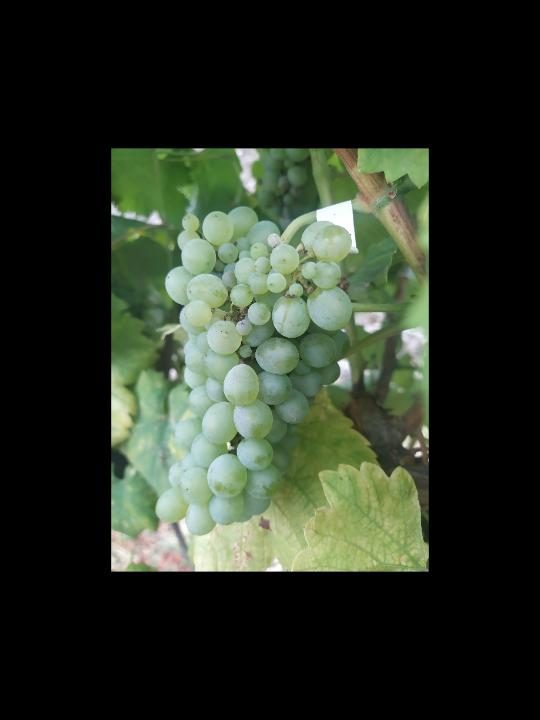grape: (154, 205, 354, 536)
